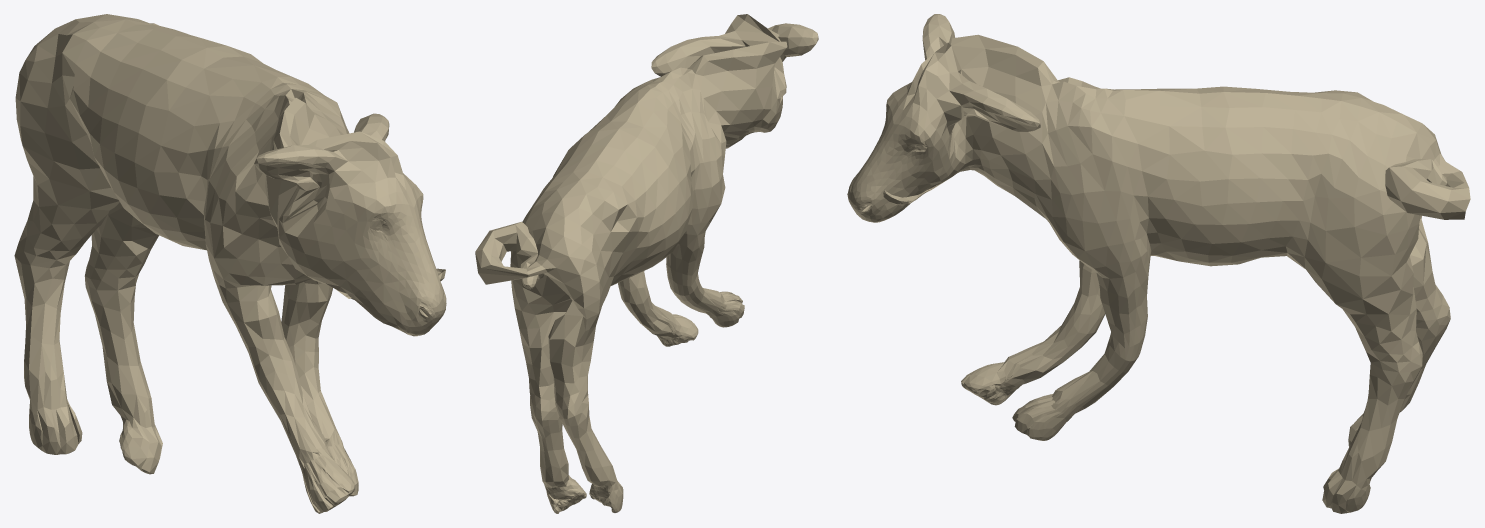
3 renders of one model, left to right at view 1: azimuth 30°, elevation 25°; view 2: azimuth 150°, elevation 25°; view 3: azimuth 270°, elevation 25°, orthographic. The views are drawn at different scales.
Parts seen in each view (by area): view 1: world; view 2: world; view 3: world.
Part boxes in pixels (x1,y1,x2,y2): world: (14,14,446,513); world: (475,14,818,513); world: (847,14,1470,513).
Size of the model in its own units: 0.53 by 1.35 by 1.68.
